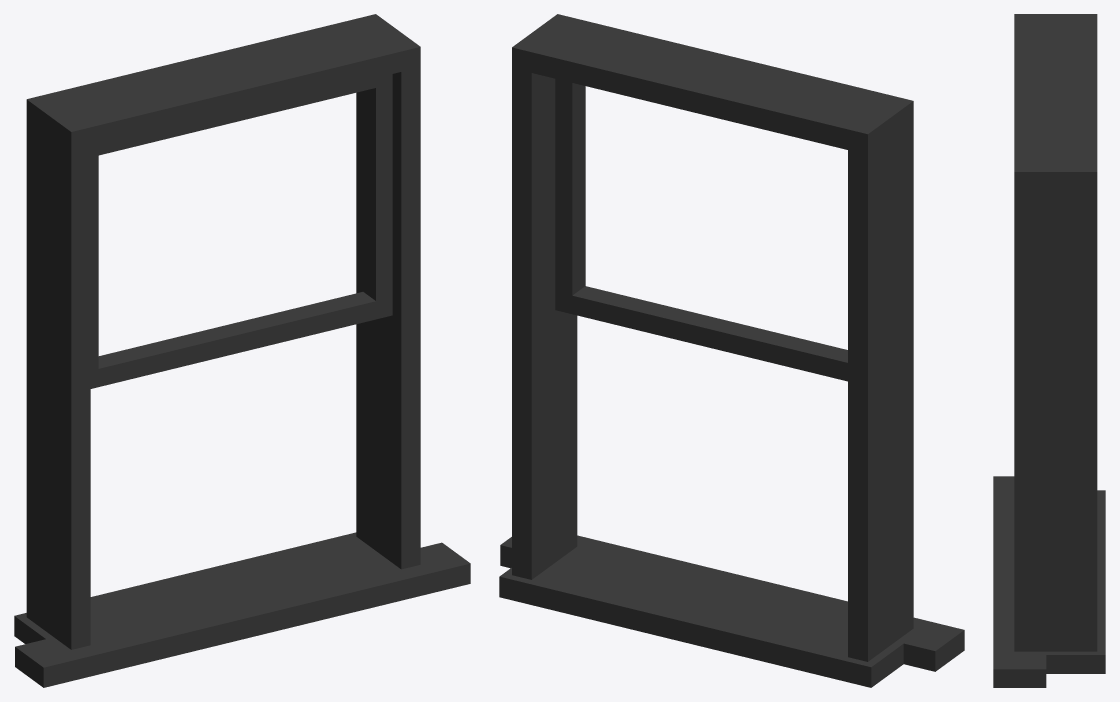
The model's file is Window4_01.fbx.
3 renders of one model, left to right at view 1: azimuth 30°, elevation 25°; view 2: azimuth 150°, elevation 25°; view 3: azimuth 270°, elevation 25°, orthographic. The views are drawn at different scales.
Visible parts, largest first — view 1: Window4_01; view 2: Window4_01; view 3: Window4_01.
Part boxes in pixels (bbox=[...]): Window4_01: bbox=[14, 14, 470, 687]; Window4_01: bbox=[499, 14, 964, 687]; Window4_01: bbox=[993, 14, 1105, 687].
Size of the model in its own units: 110 by 133 by 27.
